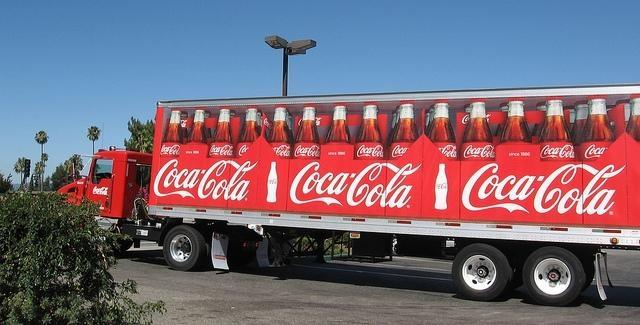truck: (57, 84, 640, 307)
